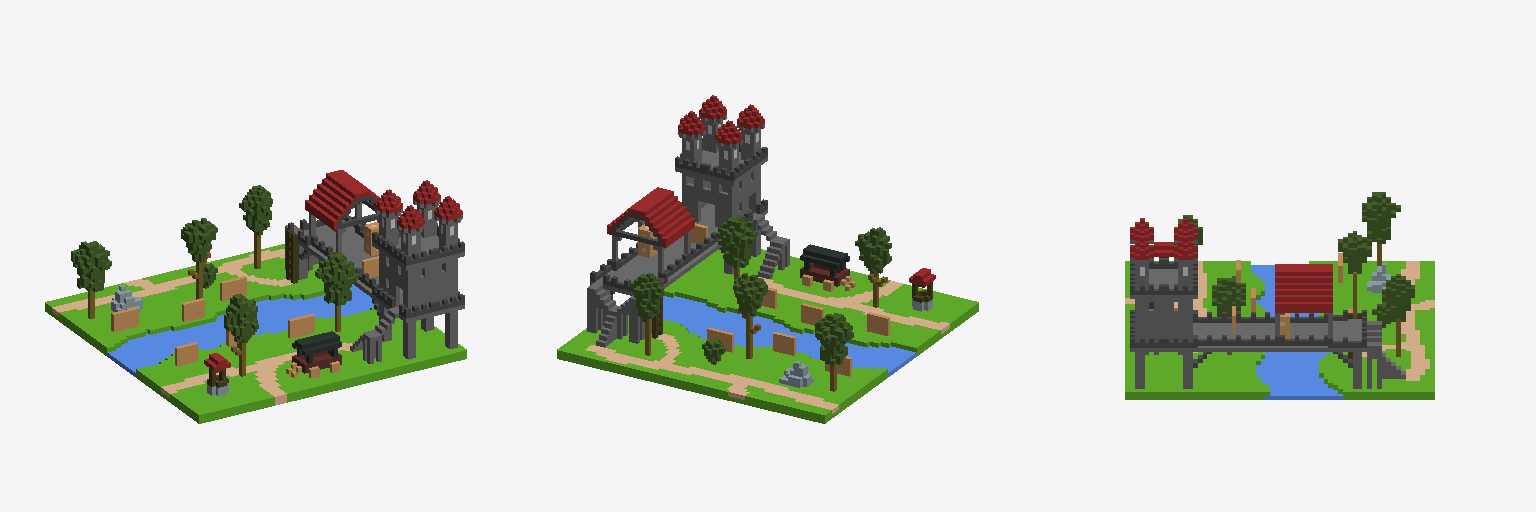
3 renders of one model, left to right at view 1: azimuth 30°, elevation 25°; view 2: azimuth 150°, elevation 25°; view 3: azimuth 270°, elevation 25°, orthographic.
Parts seen in each view (by area): view 1: rivercastle; view 2: rivercastle; view 3: rivercastle.
Part boxes in pixels (x1,y1,x2,y2): rivercastle: (45,170,466,423); rivercastle: (557,95,978,423); rivercastle: (1125,192,1434,399).
Bounding box in the file's own units: 6.4 × 3.6 × 6.4.
Materials: 1 (1 with a texture image).